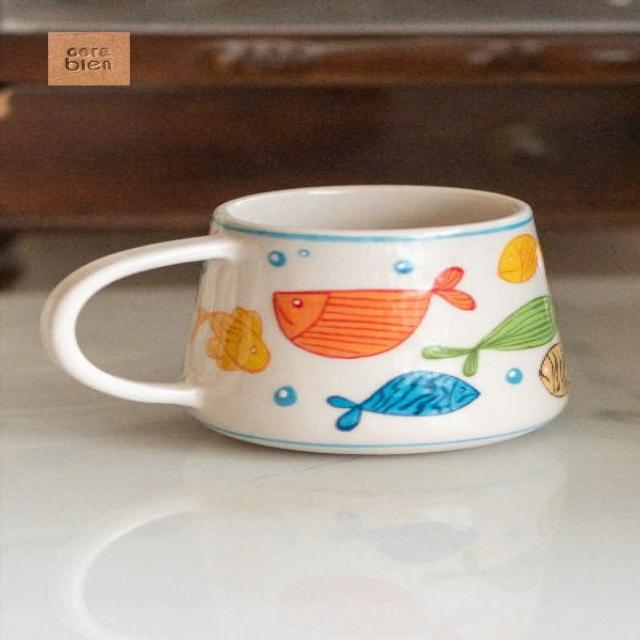glass cup: (43, 184, 572, 455)
